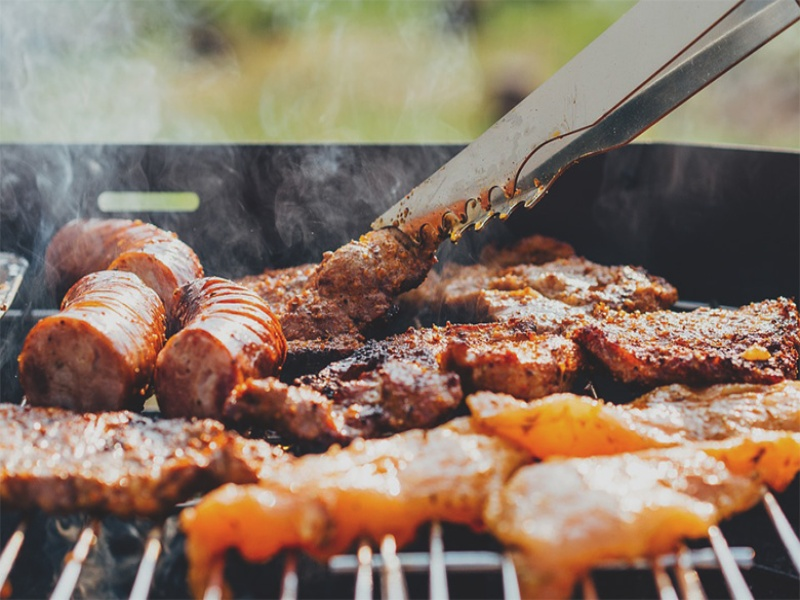smoke: (7, 4, 238, 201)
